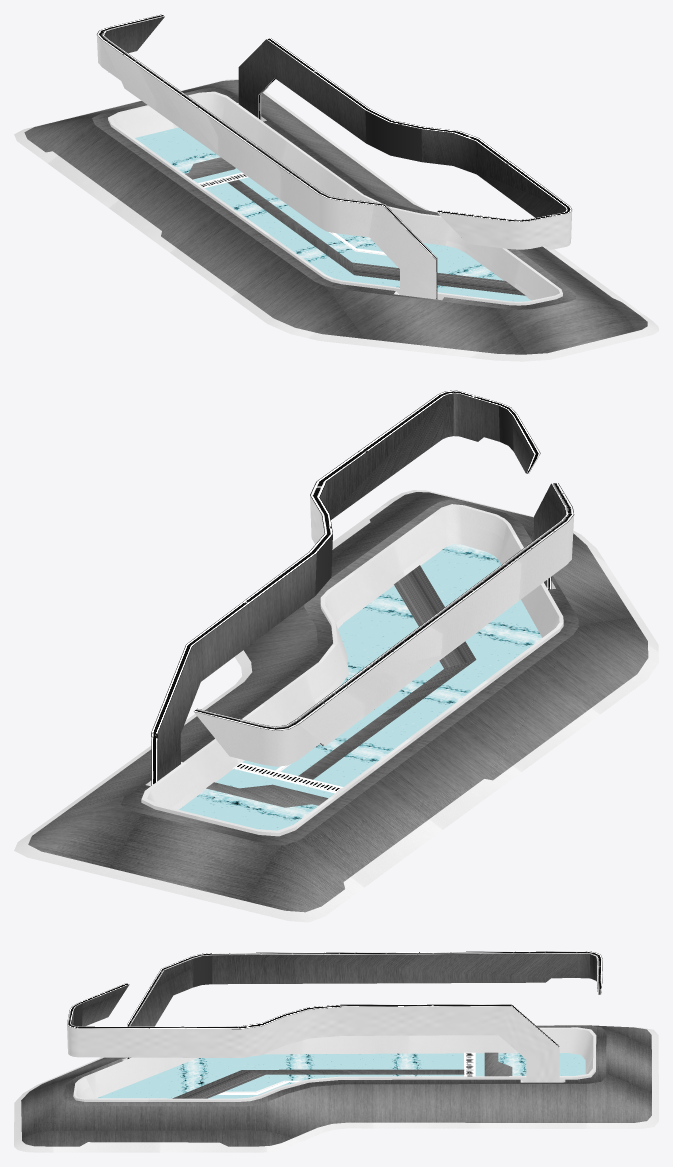
The model's file is propLightpool.glb.
3 views of the same model, one above another, from view 1: azimuth 30°, elevation 25°; view 2: azimuth 150°, elevation 25°; view 3: azimuth 270°, elevation 25° (orthographic). The views are drawn at different scales.
Visible parts, largest first — view 1: propLightpool, PF_Lightpool.002_M_Lightpool_Dark_0, PF_Lightpool.002_M_Emissive_Engineering.017_0, PF_Lightpool.002_M_TrimSheet_Generic_V1.022_0; view 2: propLightpool, PF_Lightpool.002_M_Lightpool_Dark_0, PF_Lightpool.002_M_Emissive_Engineering.017_0, PF_Lightpool.002_M_TrimSheet_Generic_V1.022_0; view 3: propLightpool, PF_Lightpool.002_M_Lightpool_Dark_0, PF_Lightpool.002_M_Emissive_Engineering.017_0, PF_Lightpool.002_M_TrimSheet_Generic_V1.022_0.
Part boxes in pixels (x1,y1,x2,y2): propLightpool: (24, 16, 647, 354); PF_Lightpool.002_M_Lightpool_Dark_0: (14, 35, 658, 361); PF_Lightpool.002_M_Emissive_Engineering.017_0: (135, 127, 530, 301); PF_Lightpool.002_M_TrimSheet_Generic_V1.022_0: (97, 14, 571, 299); propLightpool: (28, 393, 648, 912); PF_Lightpool.002_M_Lightpool_Dark_0: (14, 490, 658, 922); PF_Lightpool.002_M_Emissive_Engineering.017_0: (179, 544, 541, 830); PF_Lightpool.002_M_TrimSheet_Generic_V1.022_0: (151, 390, 574, 793); propLightpool: (21, 953, 651, 1146); PF_Lightpool.002_M_Lightpool_Dark_0: (14, 1006, 658, 1152); PF_Lightpool.002_M_Emissive_Engineering.017_0: (97, 1053, 585, 1098); PF_Lightpool.002_M_TrimSheet_Generic_V1.022_0: (67, 951, 602, 1094).
Bounding box in the file's own units: 2.75 × 1.01 × 6.
Materials: 4 (4 with a texture image).
